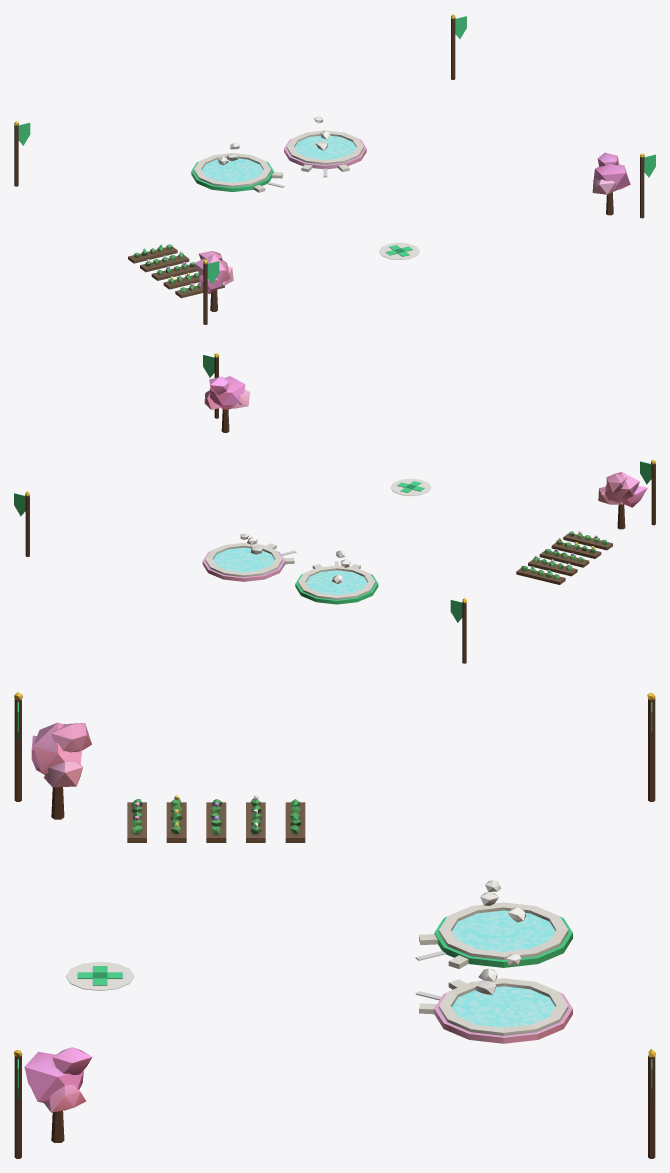
Rendered from area_spring_3_5.fbx.
3 renders of one model, top to bottom at view 1: azimuth 30°, elevation 25°; view 2: azimuth 150°, elevation 25°; view 3: azimuth 270°, elevation 25°, orthographic. The views are drawn at different scales.
Parts seen in each view (by area): view 1: area_spring_3_5_body; view 2: area_spring_3_5_body; view 3: area_spring_3_5_body.
Boxes of the visible parts, bbox=[...] form: area_spring_3_5_body: bbox=[14, 14, 655, 324]; area_spring_3_5_body: bbox=[14, 353, 655, 663]; area_spring_3_5_body: bbox=[14, 692, 655, 1158].
Bounding box in the file's own units: 16591 × 2279 × 12162.
Materials: 2 (1 with a texture image).
